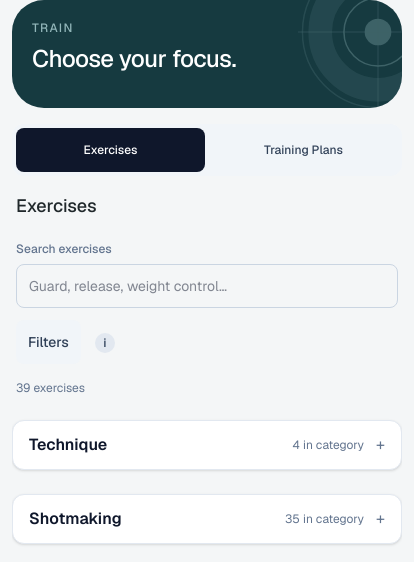
Test: Train entry paths › still reaches the unchanged Training Plans library when it is ready
What coordinates should you click on to do the following:
click the tab "Training Plans"
I would click on:
 (304, 150)
Its box is [209,128,398,172].
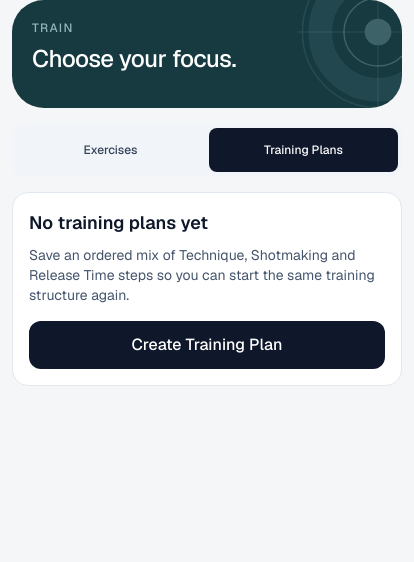
Now the heading "No training plans yet" is shown, box [29,211,208,234]
